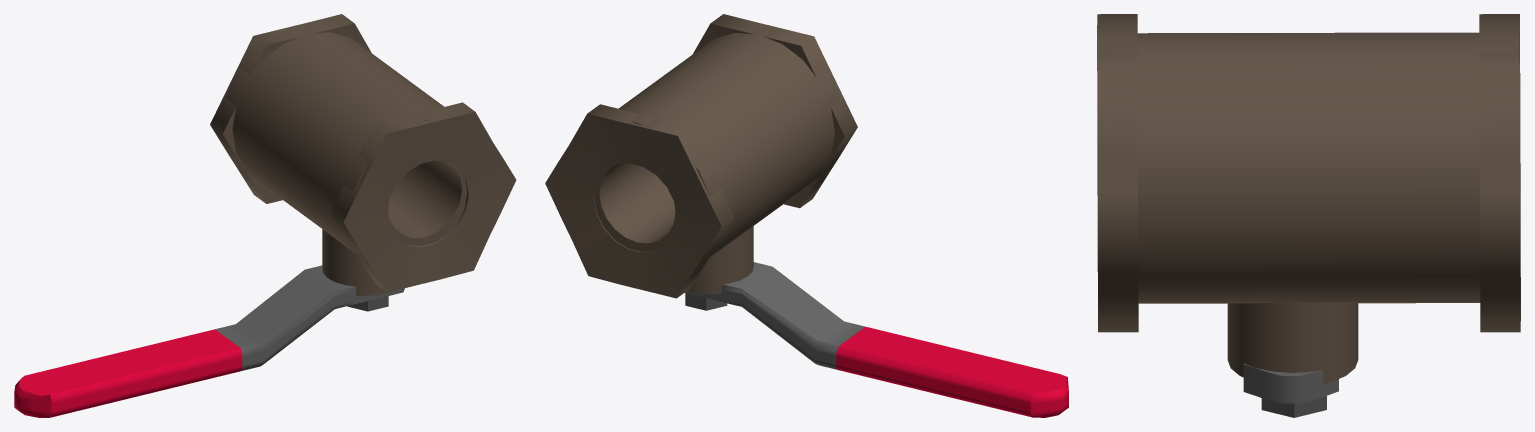
The model's file is Drainvalve.fbx.
3 views of the same model, side by side, from view 1: azimuth 30°, elevation 25°; view 2: azimuth 150°, elevation 25°; view 3: azimuth 270°, elevation 25° (orthographic). The views are drawn at different scales.
Visible parts, largest first — view 1: pPipe1, pPipe4, pCube1, pPipe3, pPipe2; view 2: pPipe1, pPipe3, pCube1, pPipe4, pPipe2; view 3: pPipe1, pPipe4, pPipe3, pPipe2, pCube1, pPrism1.
Part boxes in pixels (<box>): pPipe1: <box>225,25,466,253</box>; pPipe4: <box>331,102,516,292</box>; pCube1: <box>14,265,404,417</box>; pPipe3: <box>210,14,371,203</box>; pPipe2: <box>322,229,386,295</box>; pPipe1: <box>594,27,840,257</box>; pPipe3: <box>545,104,734,298</box>; pCube1: <box>685,262,1068,417</box>; pPipe4: <box>693,14,857,208</box>; pPipe2: <box>687,226,753,294</box>; pPipe1: <box>1107,32,1513,303</box>; pPipe4: <box>1097,14,1138,332</box>; pPipe3: <box>1479,14,1520,332</box>; pPipe2: <box>1227,302,1358,383</box>; pCube1: <box>1243,363,1338,403</box>; pPrism1: <box>1261,396,1326,417</box>.
Size of the model in its own units: 10.49 by 5.75 by 5.55.
